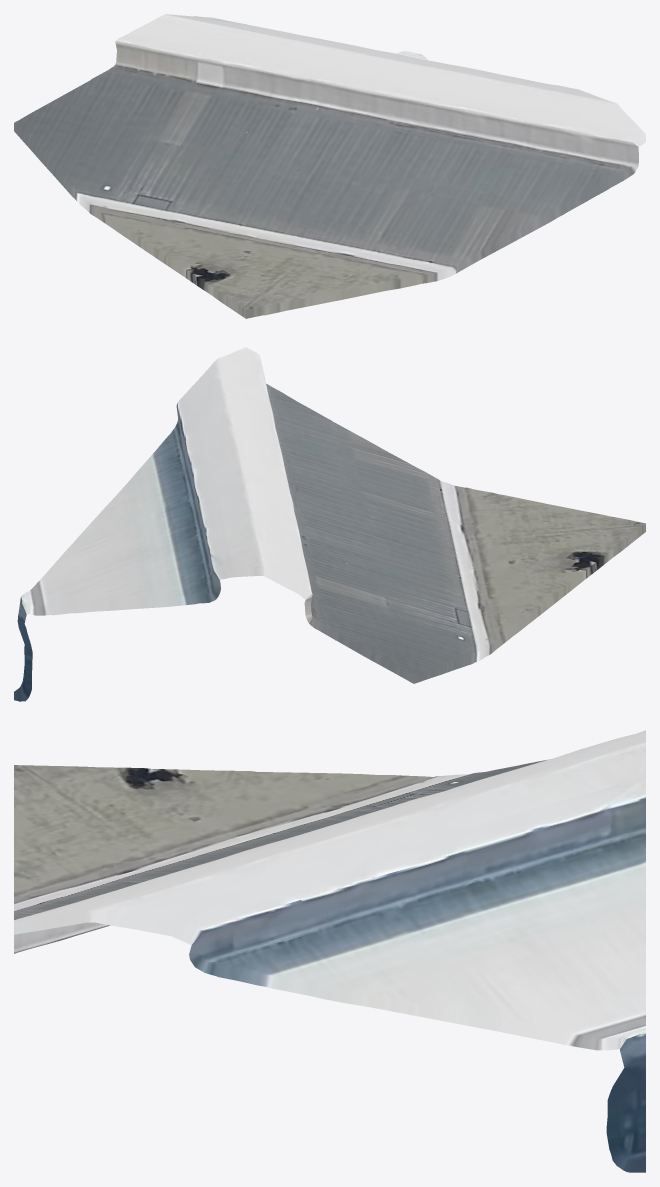
The model's file is z20-167775-405197-h0-yup-uvflip-v3-world.glb.
3 views of the same model, one above another, from view 1: azimuth 30°, elevation 25°; view 2: azimuth 150°, elevation 25°; view 3: azimuth 270°, elevation 25° (orthographic). The views are drawn at different scales.
Size of the model in its own units: 30.16 by 13.96 by 30.32.
1 material, 1 textured.
